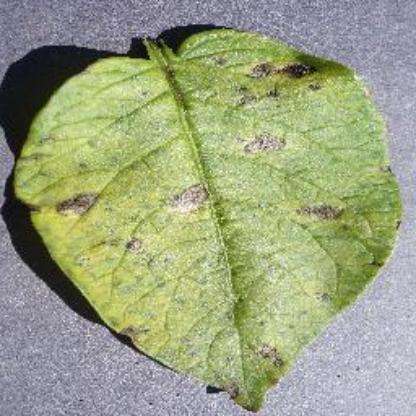Early-Blight: (17, 27, 409, 410)
